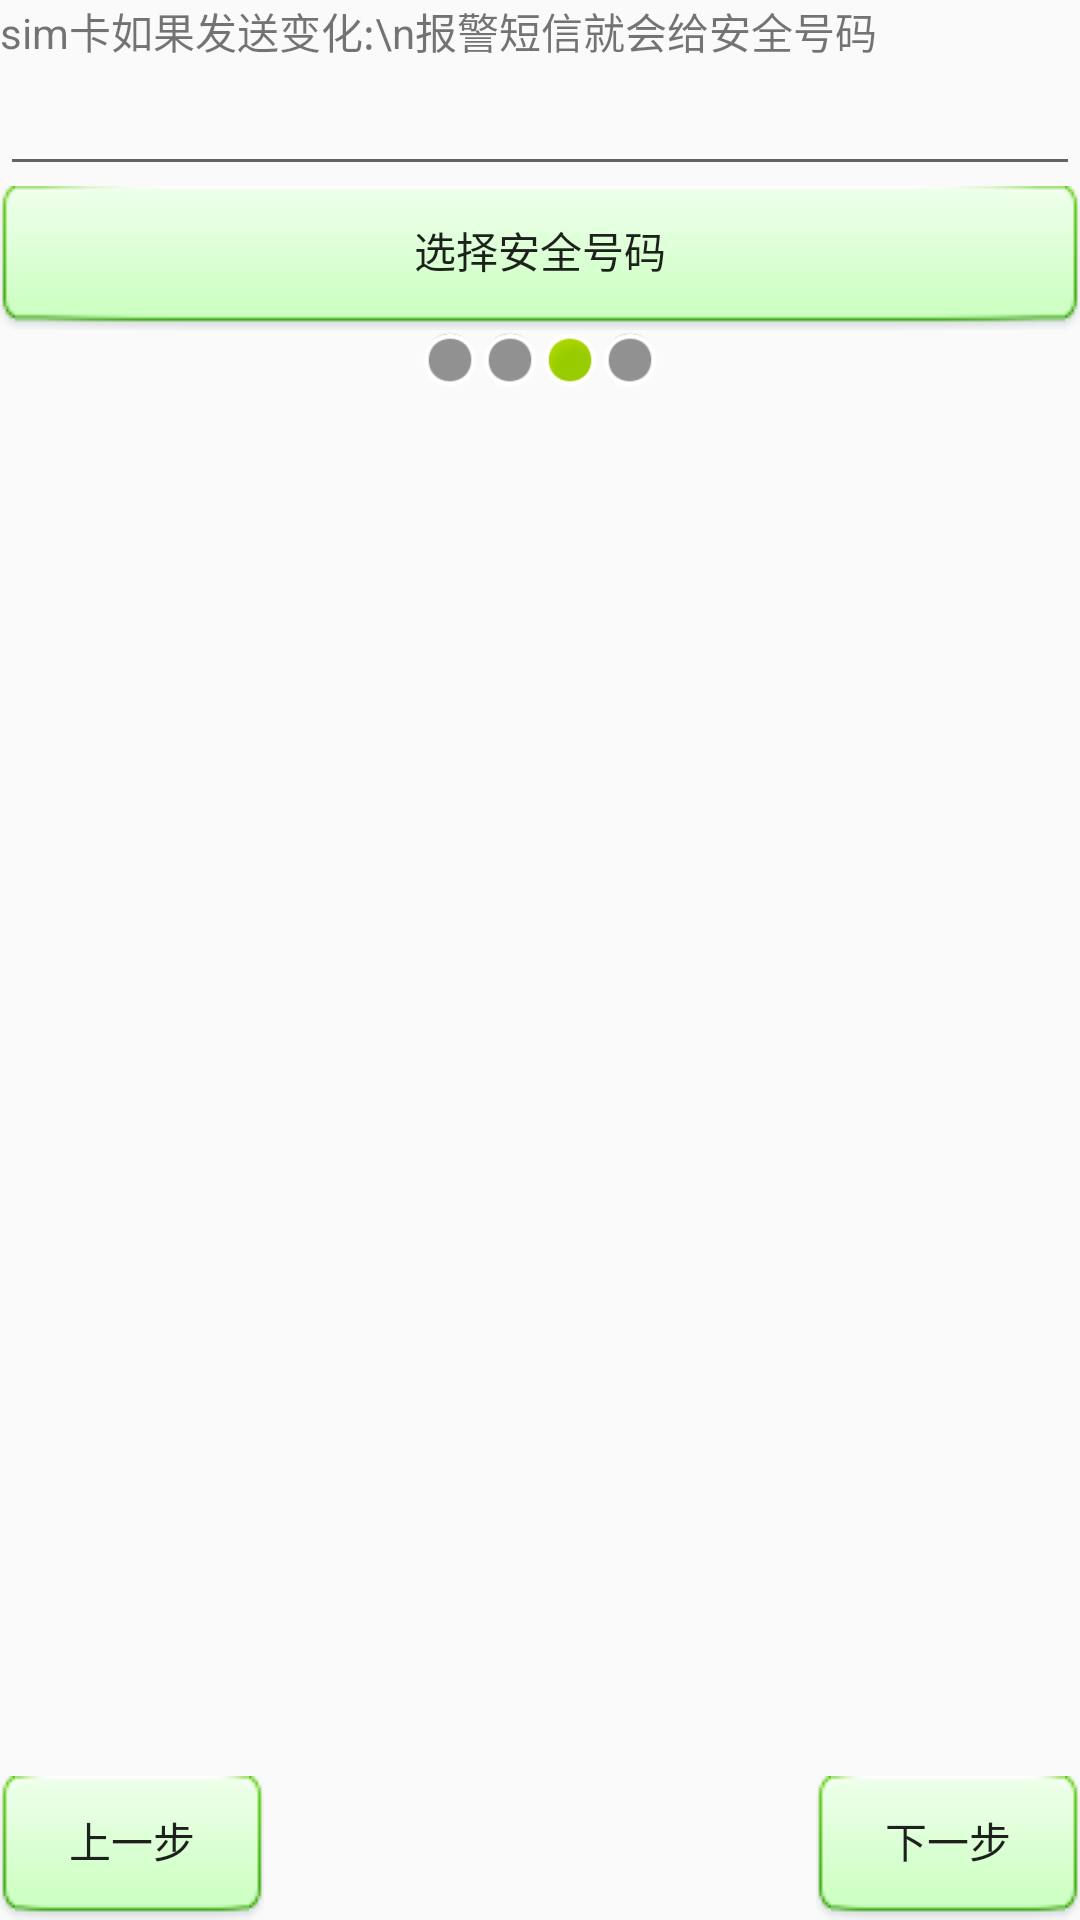

Where to tap for icons on this 1080px×1920px app screen, as (x,y):
presence invisible: (450,358), (510,358), (630,358)
presence online: (570,360)
